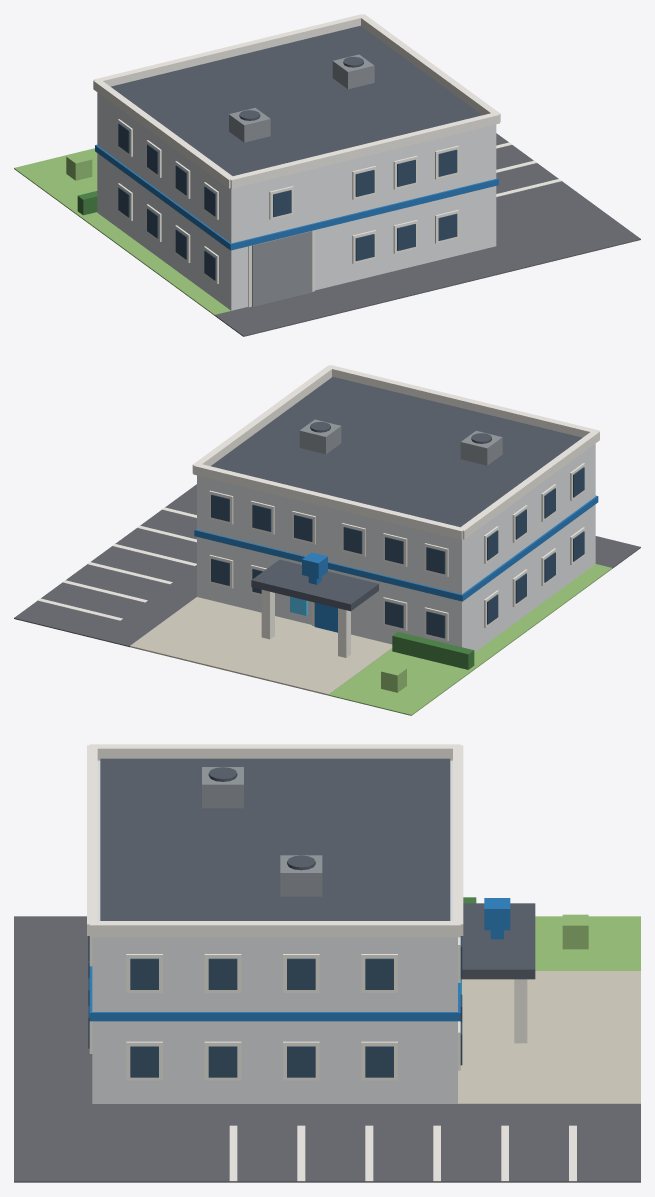
File: police.glb
3 views of the same model, one above another, from view 1: azimuth 30°, elevation 25°; view 2: azimuth 150°, elevation 25°; view 3: azimuth 270°, elevation 25° (orthographic). The views are drawn at different scales.
Parts seen in each view (by area): view 1: building, roof, parapet (×4), car_park, yard, garage_door, string_course, lawn, lawn_side, ac_unit_body (×2), window_glass (×4), tree_spot; view 2: building, roof, car_park, forecourt, parapet (×4), lawn, canopy, string_course, lawn_side, ac_unit_body (×2), hedge, canopy_post (×2) (+4 smaller); view 3: roof, building, car_park, forecourt, parapet (×4), yard, window_glass (×8), lawn, canopy, string_course, window_frame (×5), ac_unit_body (×2) (+3 smaller).
Part boxes in pixels (left/top/right/bottom): building: left=97, top=92, right=496, bottom=310; roof: left=111, top=25, right=482, bottom=175; parapet (×4): left=93, top=14, right=500, bottom=188; car_park: left=496, top=133, right=640, bottom=268; yard: left=214, top=246, right=524, bottom=336; garage_door: left=252, top=231, right=312, bottom=306; string_course: left=95, top=144, right=498, bottom=250; lawn: left=14, top=148, right=97, bottom=217; lawn_side: left=81, top=213, right=230, bottom=315; ac_unit_body (×2): left=229, top=54, right=374, bottom=142; window_glass (×4): left=355, top=149, right=457, bottom=261; tree_spot: left=66, top=152, right=92, bottom=180; building: left=197, top=443, right=595, bottom=652; roof: left=211, top=377, right=582, bottom=527; car_park: left=14, top=484, right=196, bottom=647; forecourt: left=130, top=597, right=392, bottom=695; parapet (×4): left=192, top=365, right=599, bottom=539; lawn: left=328, top=648, right=478, bottom=715; canopy: left=251, top=559, right=378, bottom=611; string_course: left=194, top=495, right=598, bottom=601; lawn_side: left=474, top=564, right=612, bottom=666; ac_unit_body (×2): left=299, top=419, right=502, bottom=465; hedge: left=392, top=631, right=474, bottom=669; canopy_post (×2): left=261, top=589, right=350, bottom=657; roof: left=100, top=758, right=450, bottom=920; building: left=92, top=760, right=457, bottom=1103; car_park: left=14, top=1104, right=640, bottom=1182; forecourt: left=458, top=971, right=640, bottom=1103; parapet (×4): left=87, top=744, right=463, bottom=937; yard: left=14, top=916, right=92, bottom=1103; window_glass (×8): left=130, top=958, right=393, bottom=1077; lawn: left=535, top=916, right=640, bottom=970; canopy: left=460, top=903, right=535, bottom=979; string_course: left=89, top=966, right=460, bottom=1021; window_frame (×5): left=126, top=954, right=397, bottom=1080; ac_unit_body (×2): left=202, top=767, right=322, bottom=896.
Size of the model in its own units: 24 by 8.44 by 24.
